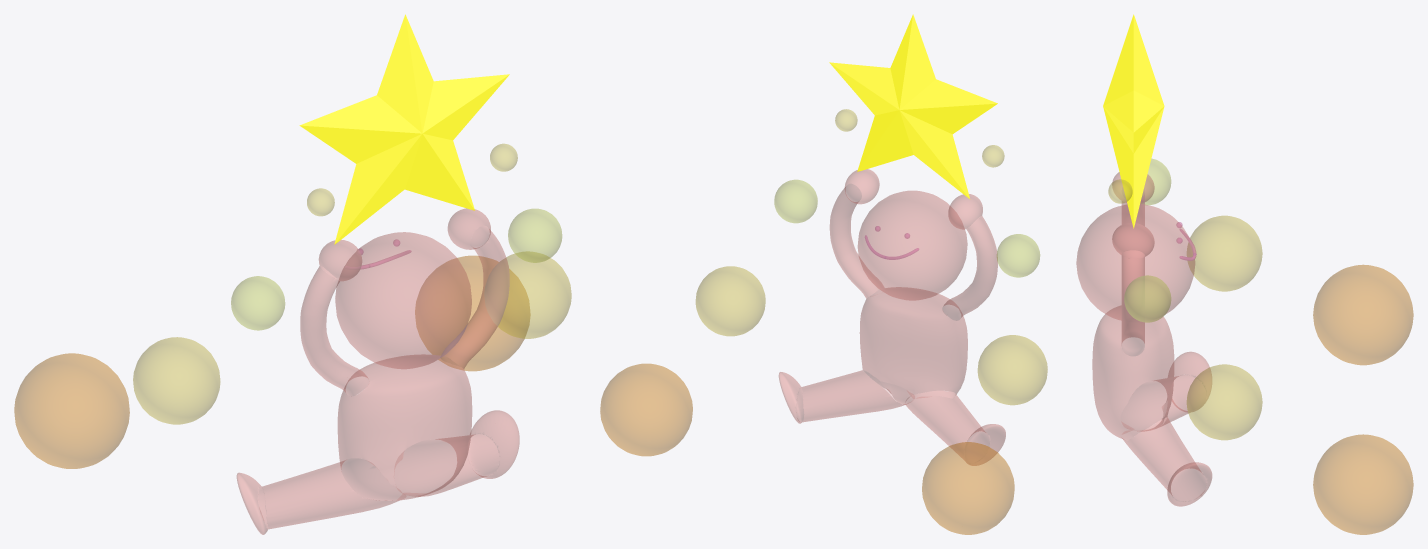
The model's file is IchibanboshiModeling5comp.glb.
The picture shows the model from 3 angles, left to right: view 1: azimuth 30°, elevation 25°; view 2: azimuth 150°, elevation 25°; view 3: azimuth 270°, elevation 25°; orthographic projection. The views are drawn at different scales.
Visible parts, largest first — view 1: Head, BigBall.001, Cone_Color_0, UnderBall.001; view 2: Head, BigBall.001, Cone_Color_0, UnderBall.001; view 3: Head, BigBall.001, UnderBall.001, Cone_Color_0.
Part boxes in pixels (x1,y1,x2,y2): Head: [237, 208, 519, 534]; BigBall.001: [14, 256, 530, 468]; Cone_Color_0: [299, 14, 509, 244]; UnderBall.001: [133, 144, 571, 424]; Head: [779, 169, 1005, 465]; BigBall.001: [600, 364, 1014, 534]; Cone_Color_0: [829, 14, 997, 199]; UnderBall.001: [696, 109, 1047, 404]; Head: [1076, 172, 1211, 506]; BigBall.001: [1313, 265, 1413, 534]; UnderBall.001: [1108, 159, 1262, 439]; Cone_Color_0: [1103, 14, 1164, 228].
Bounding box in the file's own units: 2.03 × 1.98 × 1.36.
Materials: 5 (5 with a texture image).
